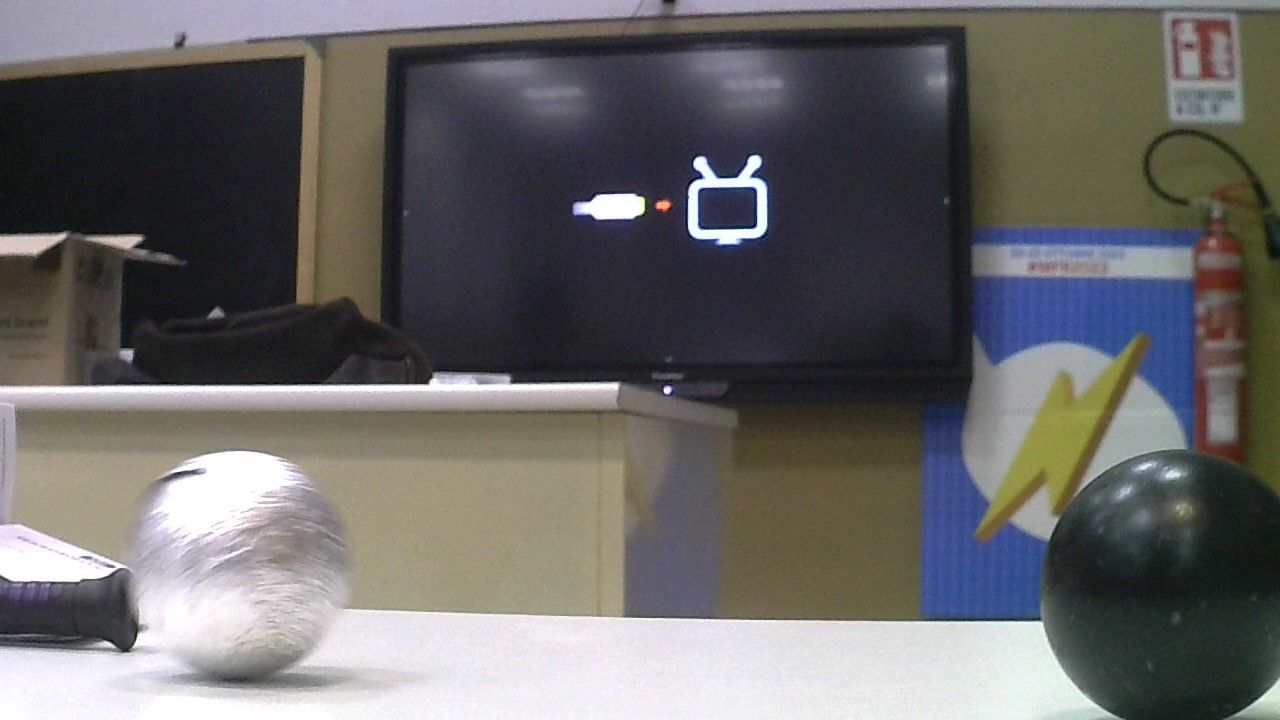black_ball: (1035, 443, 1280, 719)
silver_ball: (136, 446, 356, 689)
